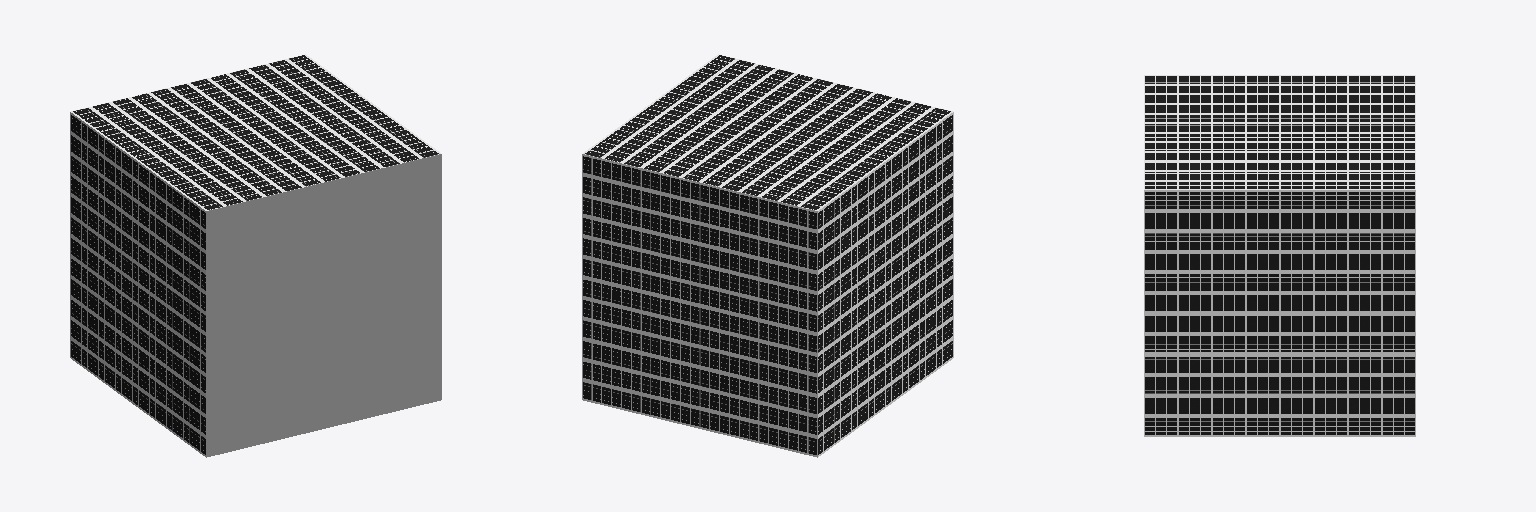
3 views of the same model, side by side, from view 1: azimuth 30°, elevation 25°; view 2: azimuth 150°, elevation 25°; view 3: azimuth 270°, elevation 25° (orthographic).
Visible parts, largest first — view 1: Cube; view 2: Cube; view 3: Cube.
Part boxes in pixels (bbox=[...]): Cube: bbox=[70, 54, 441, 457]; Cube: bbox=[582, 54, 953, 457]; Cube: bbox=[1144, 75, 1415, 436].
Bounding box in the file's own units: 2 × 2 × 2.
Materials: 2 (1 with a texture image).